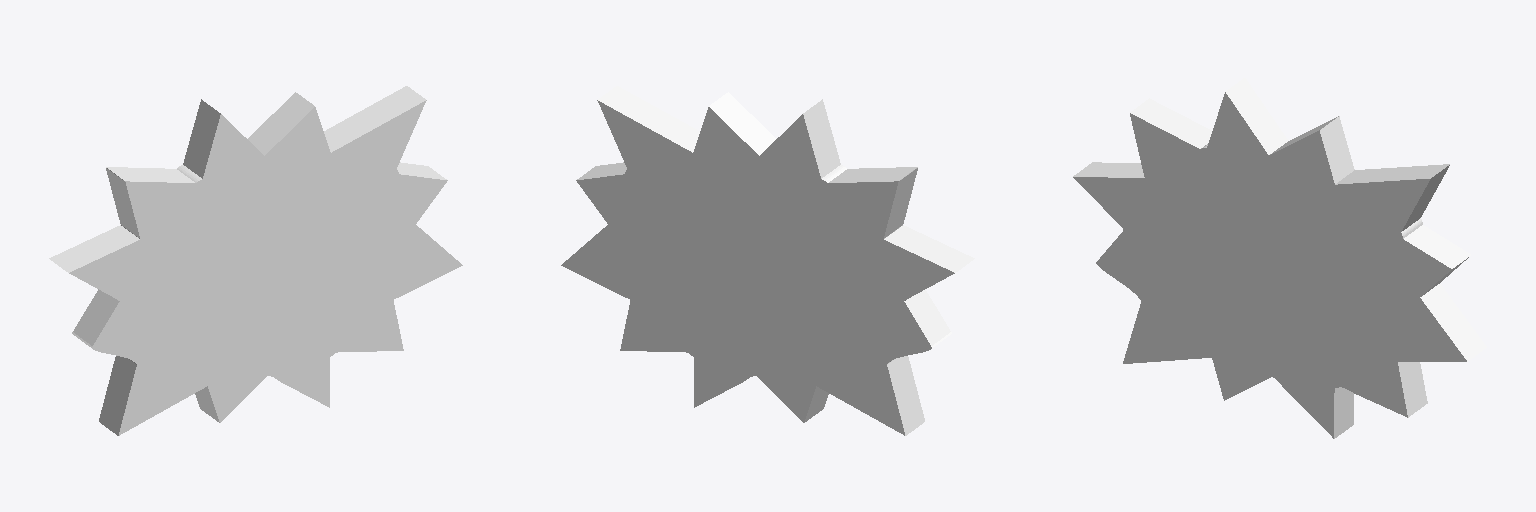
The model's file is ActionBallon2.obj.
3 views of the same model, side by side, from view 1: azimuth 30°, elevation 25°; view 2: azimuth 150°, elevation 25°; view 3: azimuth 330°, elevation 25° (orthographic).
Parts seen in each view (by area): view 1: Layer; view 2: Layer; view 3: Layer.
Part boxes in pixels (left/top/right/bottom): Layer: left=49, top=86, right=462, bottom=435; Layer: left=561, top=86, right=974, bottom=435; Layer: left=1073, top=78, right=1486, bottom=438.
Bounding box in the file's own units: 13.19 × 10.25 × 1.15.